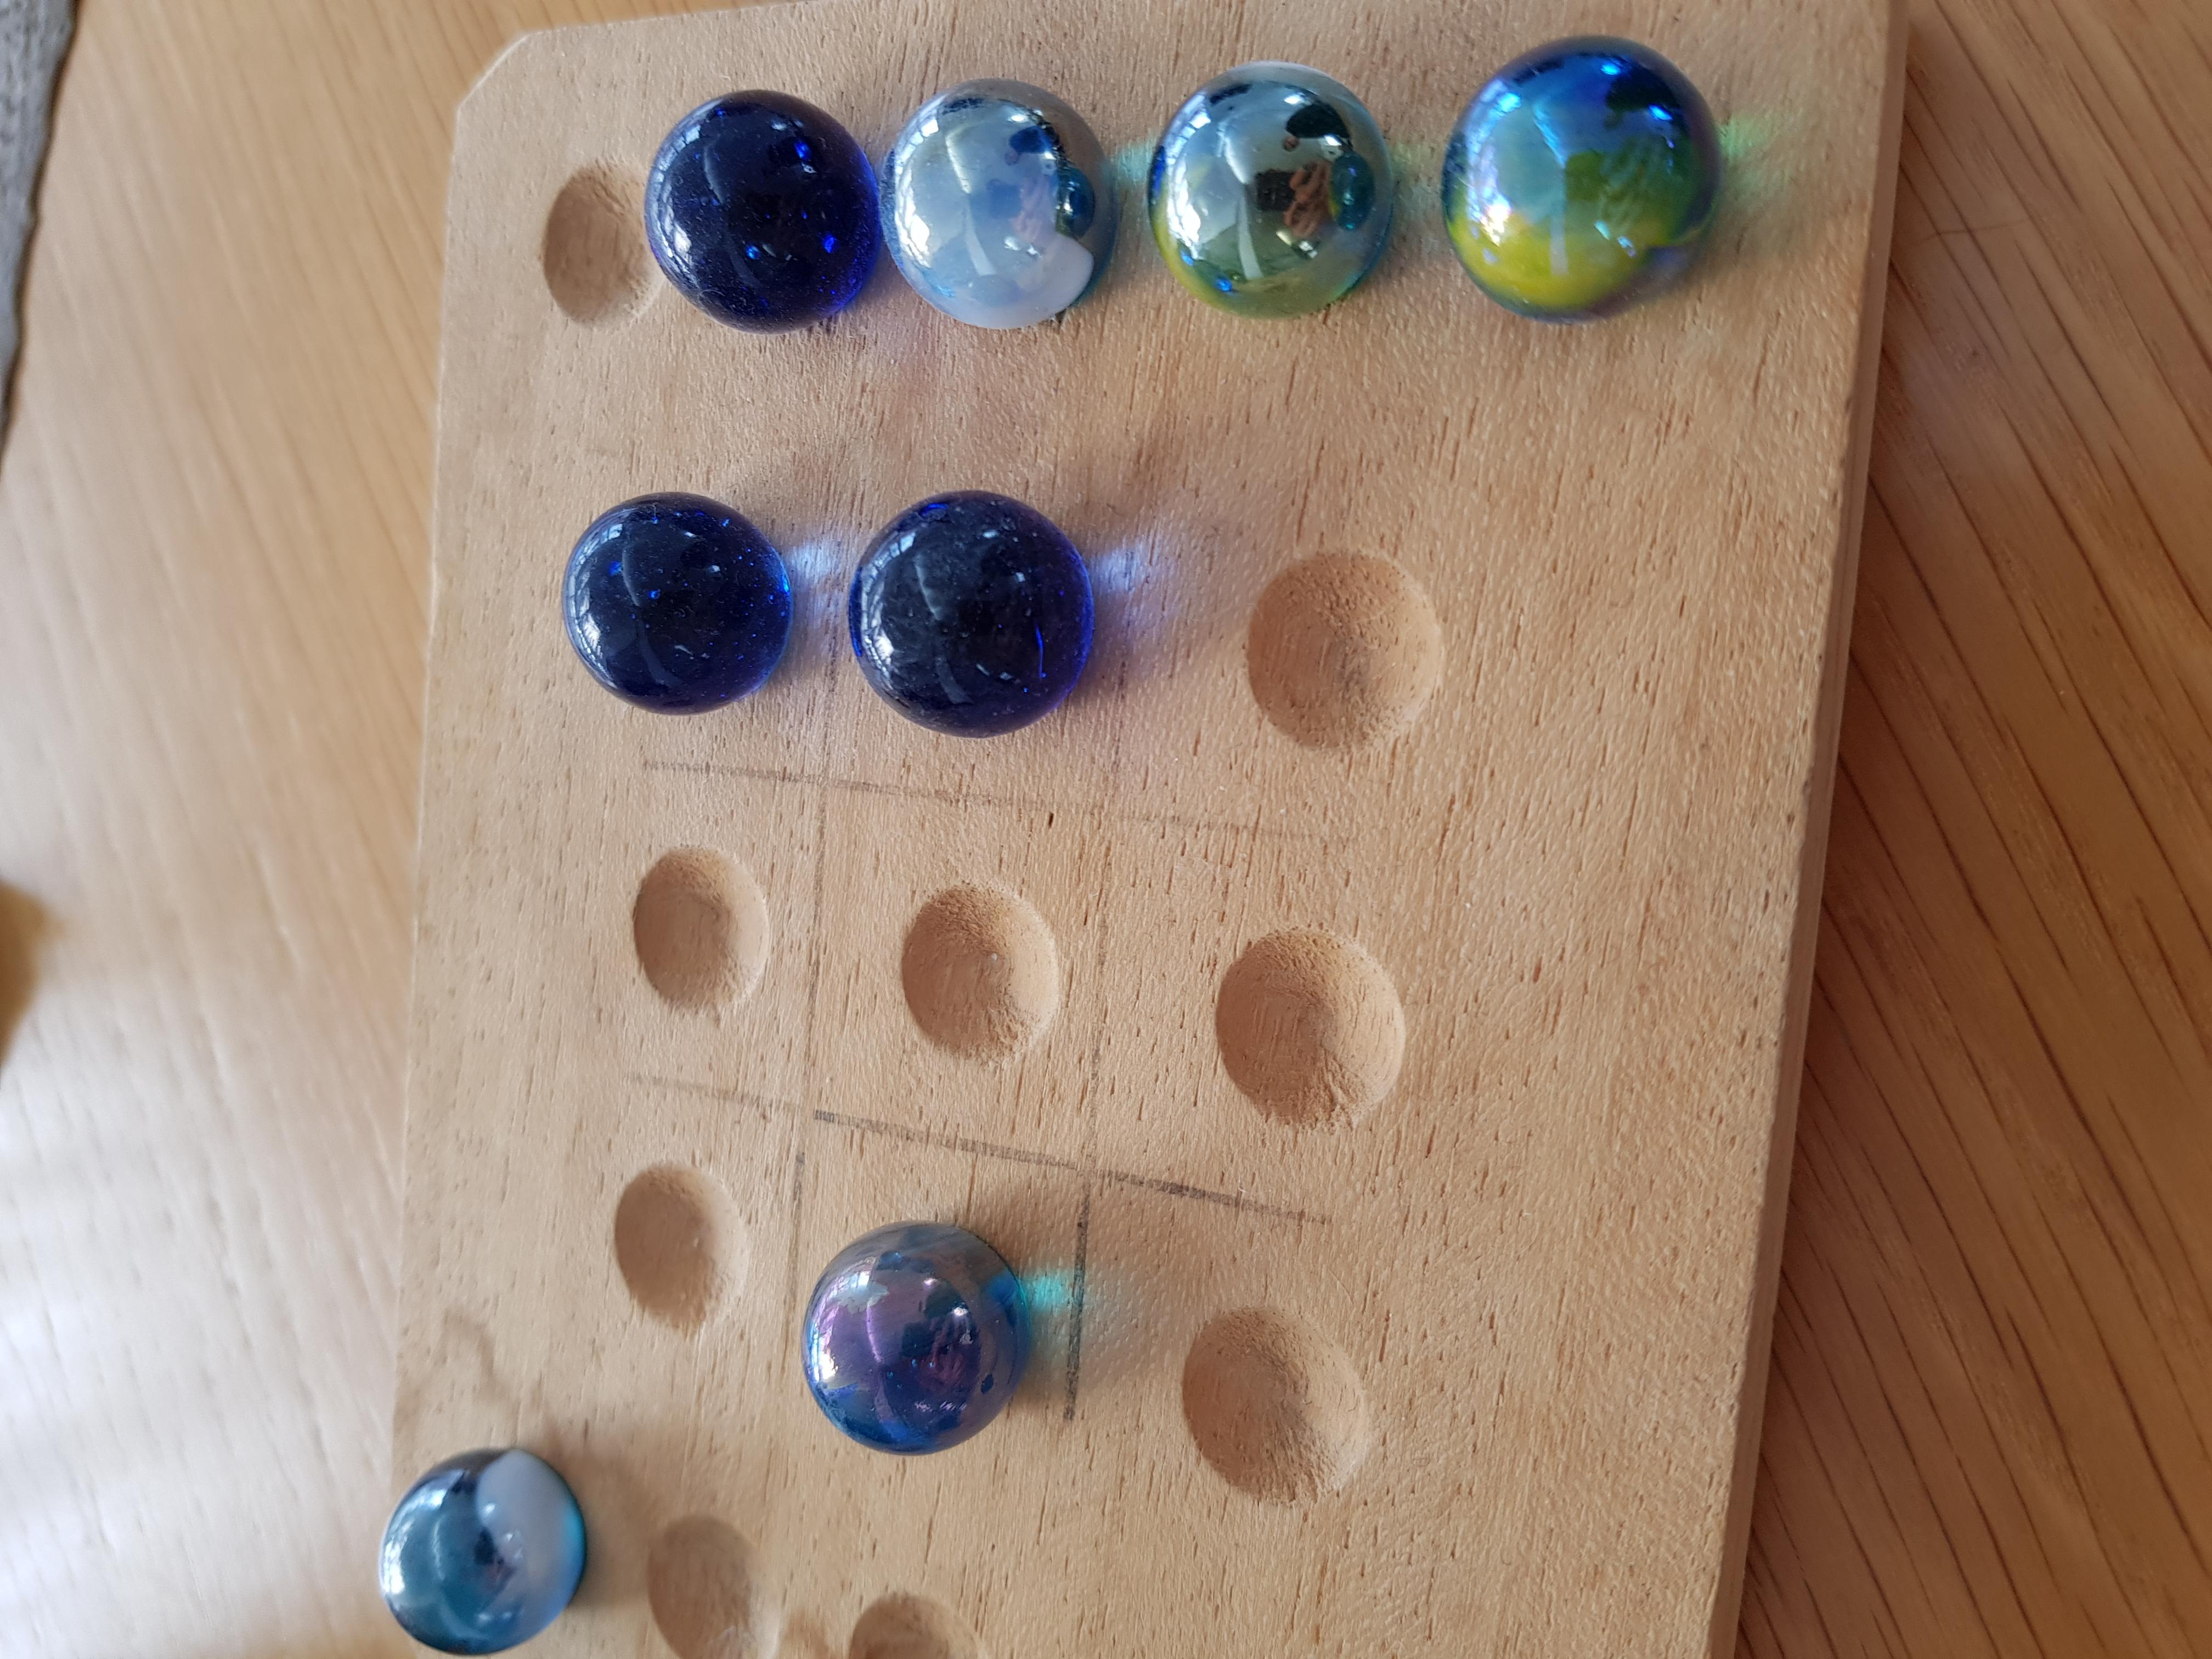sphere: (1430, 42, 1723, 321), (852, 64, 1129, 328), (826, 483, 1097, 746), (1151, 54, 1399, 321), (615, 101, 897, 324), (799, 1220, 1036, 1462), (556, 488, 784, 725), (366, 1455, 608, 1652)
